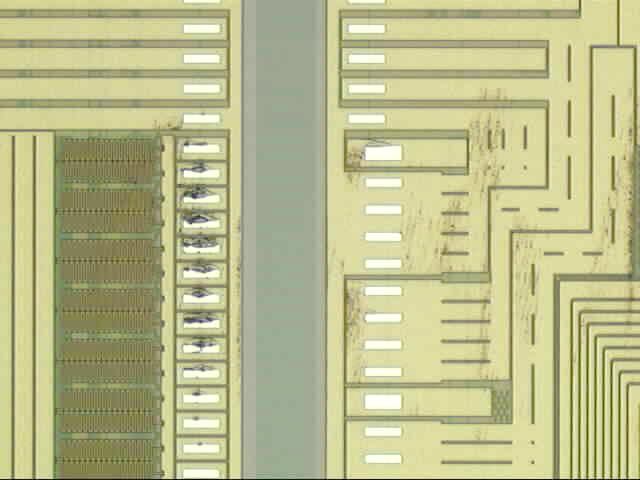SCRATCH: (340, 76, 640, 446), (165, 108, 371, 455)
